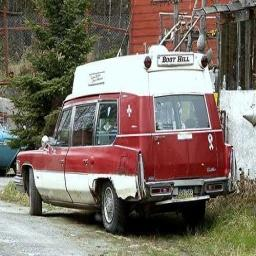Ambulance: (15, 45, 236, 232)
